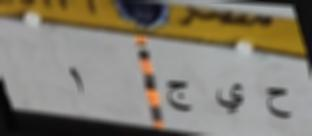1: (65, 64, 88, 98)
7aa: (260, 81, 293, 123)
jeem: (164, 75, 194, 119)
yaa: (214, 79, 247, 118)
